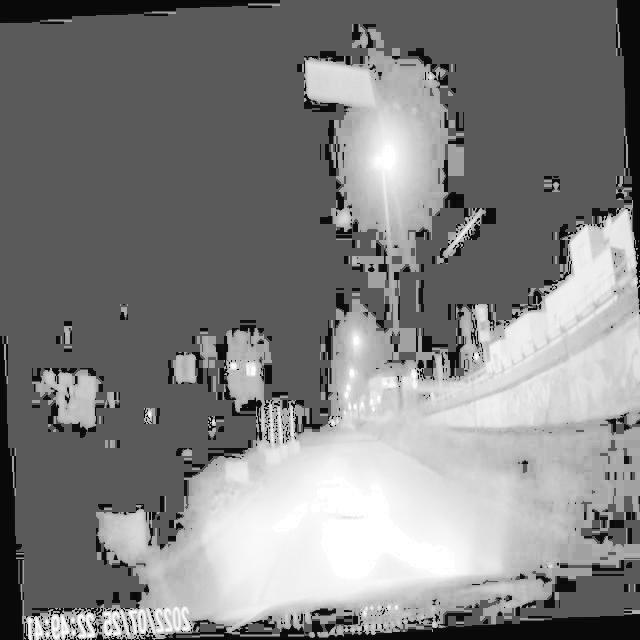Pothole: (320, 482, 370, 531)
